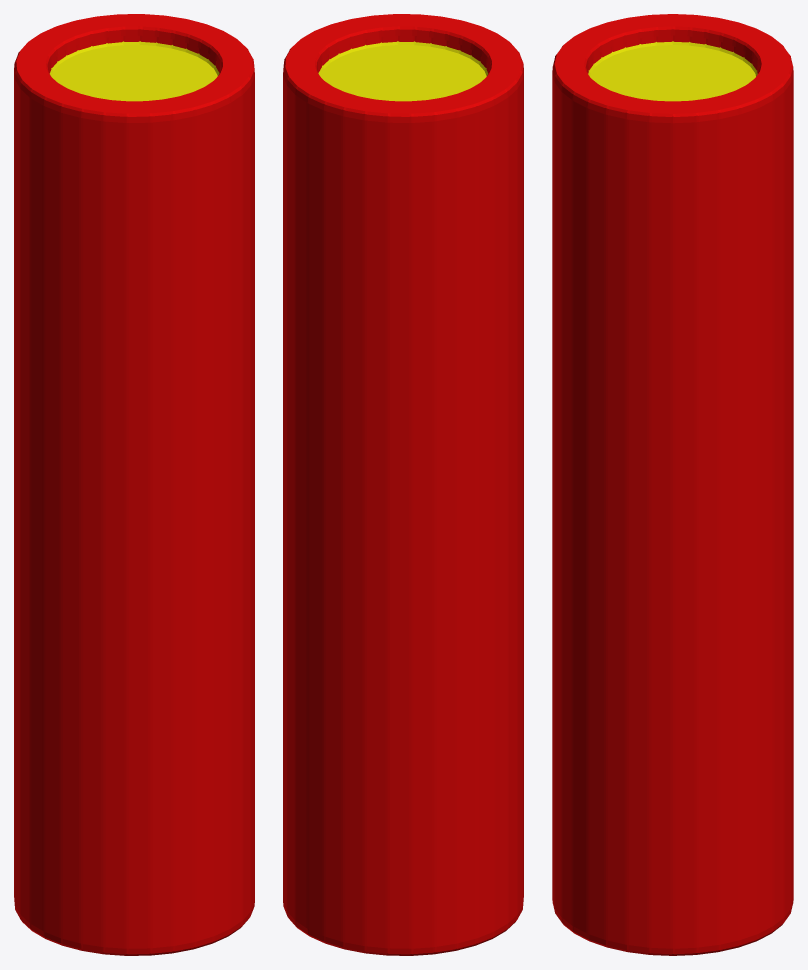
File: Pedestal.fbx
3 views of the same model, side by side, from view 1: azimuth 30°, elevation 25°; view 2: azimuth 150°, elevation 25°; view 3: azimuth 270°, elevation 25° (orthographic).
Parts seen in each view (by area): view 1: Cylinder.002; view 2: Cylinder.002; view 3: Cylinder.002.
Part boxes in pixels (x1,y1,x2,y2): Cylinder.002: [14, 14, 254, 955]; Cylinder.002: [283, 14, 523, 955]; Cylinder.002: [552, 14, 793, 955].
Size of the model in its own units: 29.94 by 115 by 29.94.
